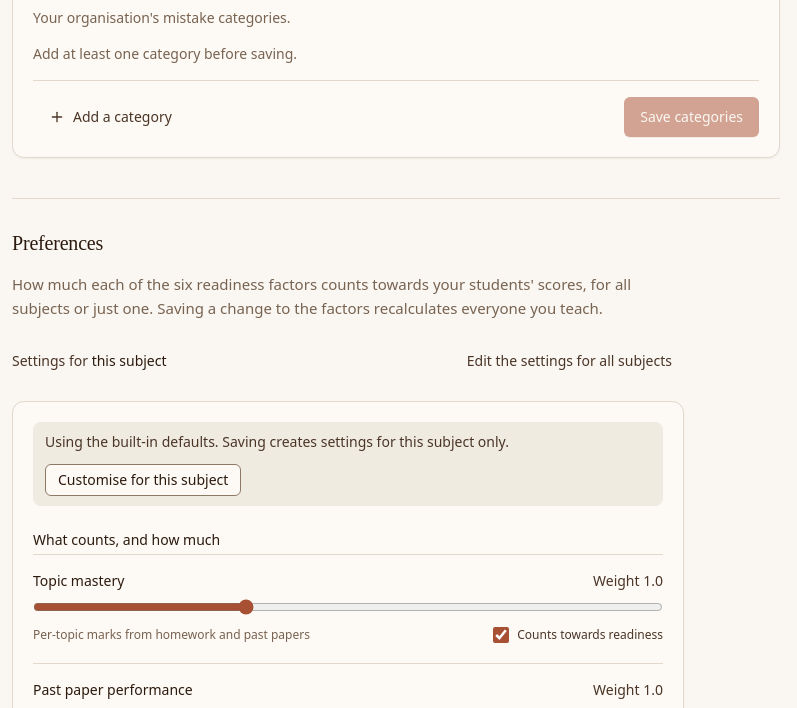
Test: the account-wide readiness settings stay reachable without a second picker
(page scrolled)
Expected: the text "Using the built-in defaults" is shown, [45, 432, 509, 450]
Click the button "Edit the settings for all subjects" at (569, 360), box [455, 344, 684, 376]
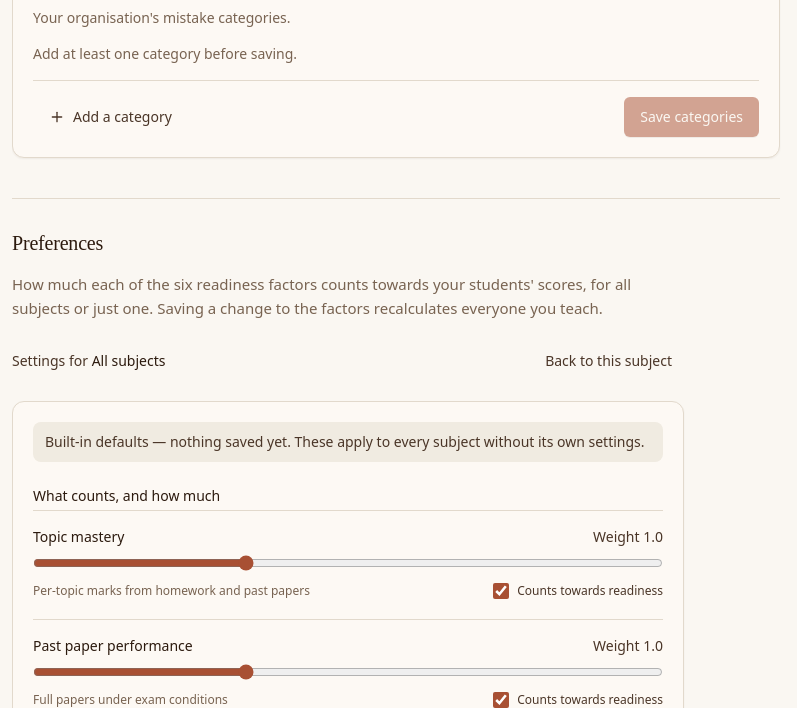
Click the button "Back to this subject" at (609, 360), box [533, 344, 684, 376]
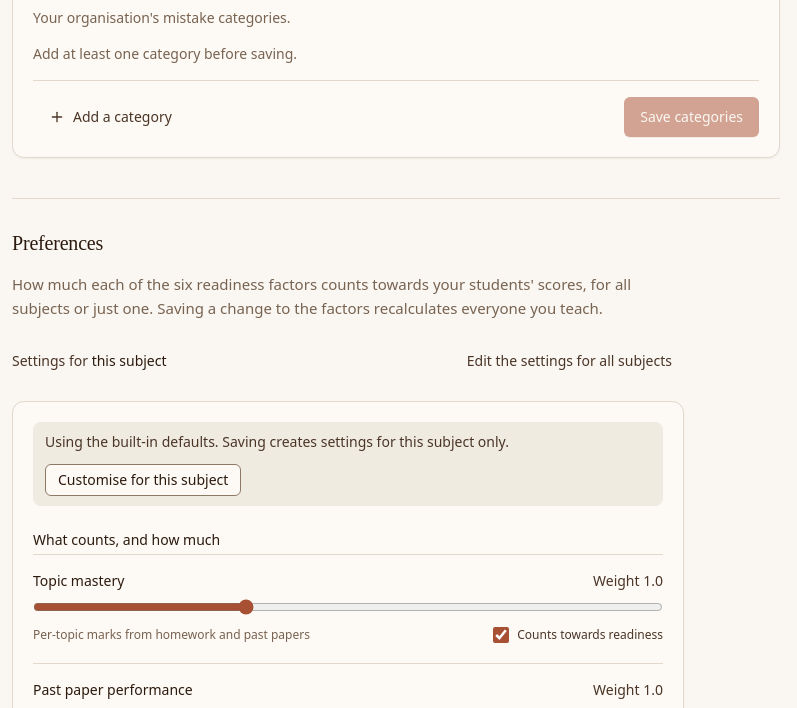
Expected: the text "this subject" is shown, [92, 350, 166, 370]
